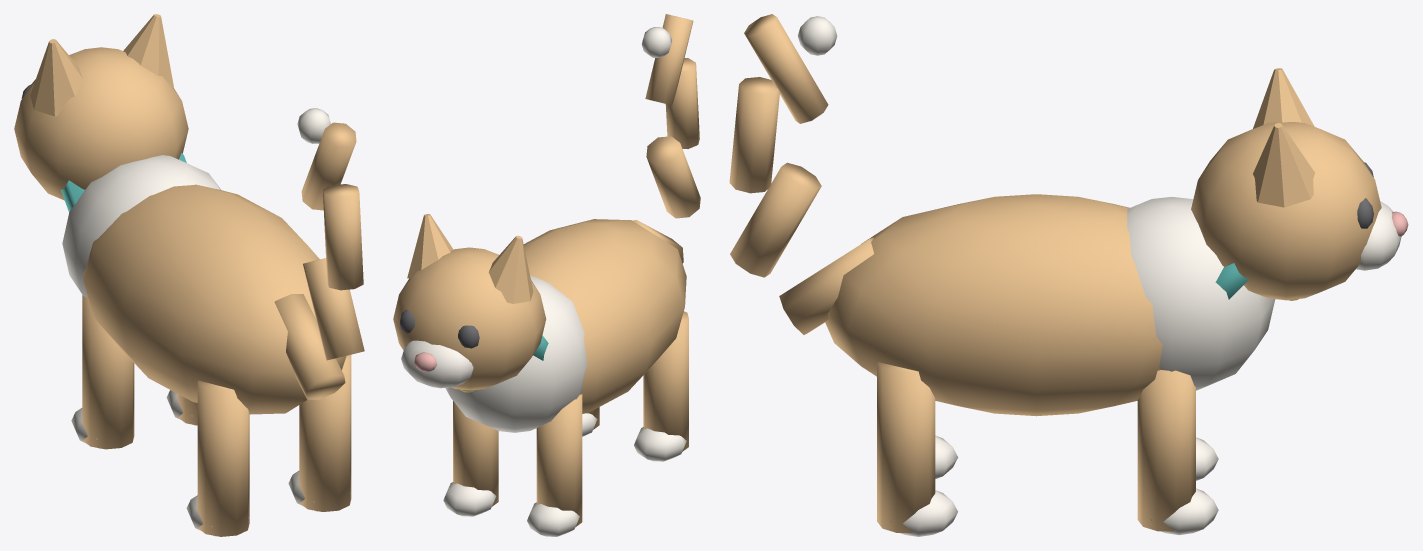
File: Istanbul_StreetCat.fbx
The picture shows the model from 3 angles, left to right: view 1: azimuth 30°, elevation 25°; view 2: azimuth 150°, elevation 25°; view 3: azimuth 270°, elevation 25°; orthographic projection. The views are drawn at different scales.
Visible parts, largest first — view 1: Cat_Body, Cat_Head, Cat_Leg_BL, Cat_Chest, Cat_Leg_BR, Cat_Leg_FL, Cat_Tail_0, Cat_Tail_2, Cat_Tail_1, Cat_Tail_3, Cat_EarL, Cat_EarR (+3 smaller); view 2: Cat_Body, Cat_Head, Cat_Chest, Cat_Leg_FL, Cat_Leg_BL, Cat_Leg_FR, Cat_Tail_1, Cat_Tail_3, Cat_Muzzle, Cat_Tail_2, Cat_EarL, Cat_EarR (+5 smaller); view 3: Cat_Body, Cat_Head, Cat_Chest, Cat_Leg_BR, Cat_Leg_FR, Cat_Tail_1, Cat_Tail_2, Cat_Tail_3, Cat_EarR, Cat_Tail_0, Cat_EarL, Cat_Muzzle (+3 smaller).
Part boxes in pixels (left/top/right/bottom): Cat_Body: left=83, top=184, right=346, bottom=414; Cat_Head: left=14, top=47, right=188, bottom=200; Cat_Leg_BL: left=197, top=380, right=249, bottom=536; Cat_Chest: left=62, top=155, right=220, bottom=297; Cat_Leg_BR: left=299, top=354, right=351, bottom=511; Cat_Leg_FL: left=82, top=295, right=134, bottom=449; Cat_Tail_0: left=274, top=294, right=345, bottom=399; Cat_Tail_2: left=323, top=184, right=363, bottom=290; Cat_Tail_1: left=303, top=258, right=364, bottom=360; Cat_Tail_3: left=301, top=122, right=356, bottom=210; Cat_EarL: left=30, top=39, right=83, bottom=116; Cat_EarR: left=123, top=14, right=173, bottom=87; Cat_Body: left=523, top=219, right=686, bottom=413; Cat_Head: left=393, top=247, right=546, bottom=390; Cat_Chest: left=445, top=275, right=587, bottom=432; Cat_Leg_FL: left=536, top=394, right=582, bottom=526; Cat_Leg_BL: left=643, top=311, right=688, bottom=451; Cat_Leg_FR: left=453, top=401, right=498, bottom=506; Cat_Tail_1: left=646, top=136, right=700, bottom=218; Cat_Tail_3: left=645, top=14, right=693, bottom=105; Cat_Muzzle: left=401, top=340, right=473, bottom=388; Cat_Tail_2: left=665, top=58, right=699, bottom=148; Cat_EarL: left=488, top=235, right=533, bottom=303; Cat_EarR: left=407, top=214, right=453, bottom=278; Cat_Body: left=825, top=194, right=1162, bottom=416; Cat_Head: left=1191, top=122, right=1381, bottom=300; Cat_Chest: left=1127, top=197, right=1275, bottom=390; Cat_Leg_BR: left=877, top=362, right=935, bottom=532; Cat_Leg_FR: left=1137, top=370, right=1195, bottom=531; Cat_Tail_1: left=730, top=162, right=821, bottom=277; Cat_Tail_2: left=729, top=77, right=779, bottom=193; Cat_Tail_3: left=744, top=14, right=828, bottom=123; Cat_EarR: left=1253, top=123, right=1314, bottom=207; Cat_Tail_0: left=779, top=237, right=873, bottom=334; Cat_EarL: left=1253, top=68, right=1314, bottom=128; Cat_Muzzle: left=1356, top=201, right=1401, bottom=270.
Bounding box in the file's own units: 0.23 × 0.5168 × 0.6515.
